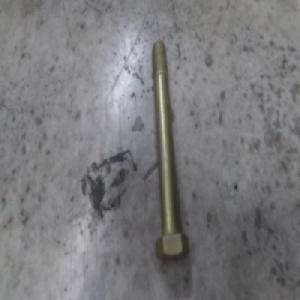Bolt: (152, 40, 189, 262)
